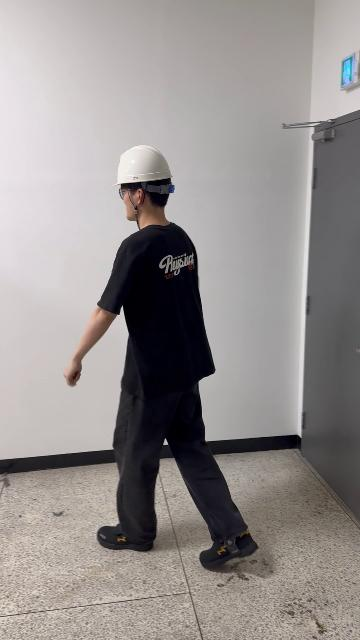helmet_worn: (110, 145, 173, 186)
shoe_worn: (199, 530, 257, 568), (96, 526, 153, 551)
vest_not_worn: (118, 231, 207, 408)
